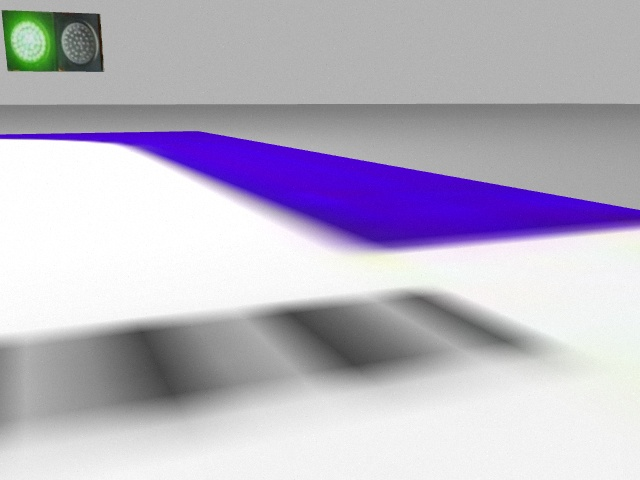green: (3, 10, 58, 71)
